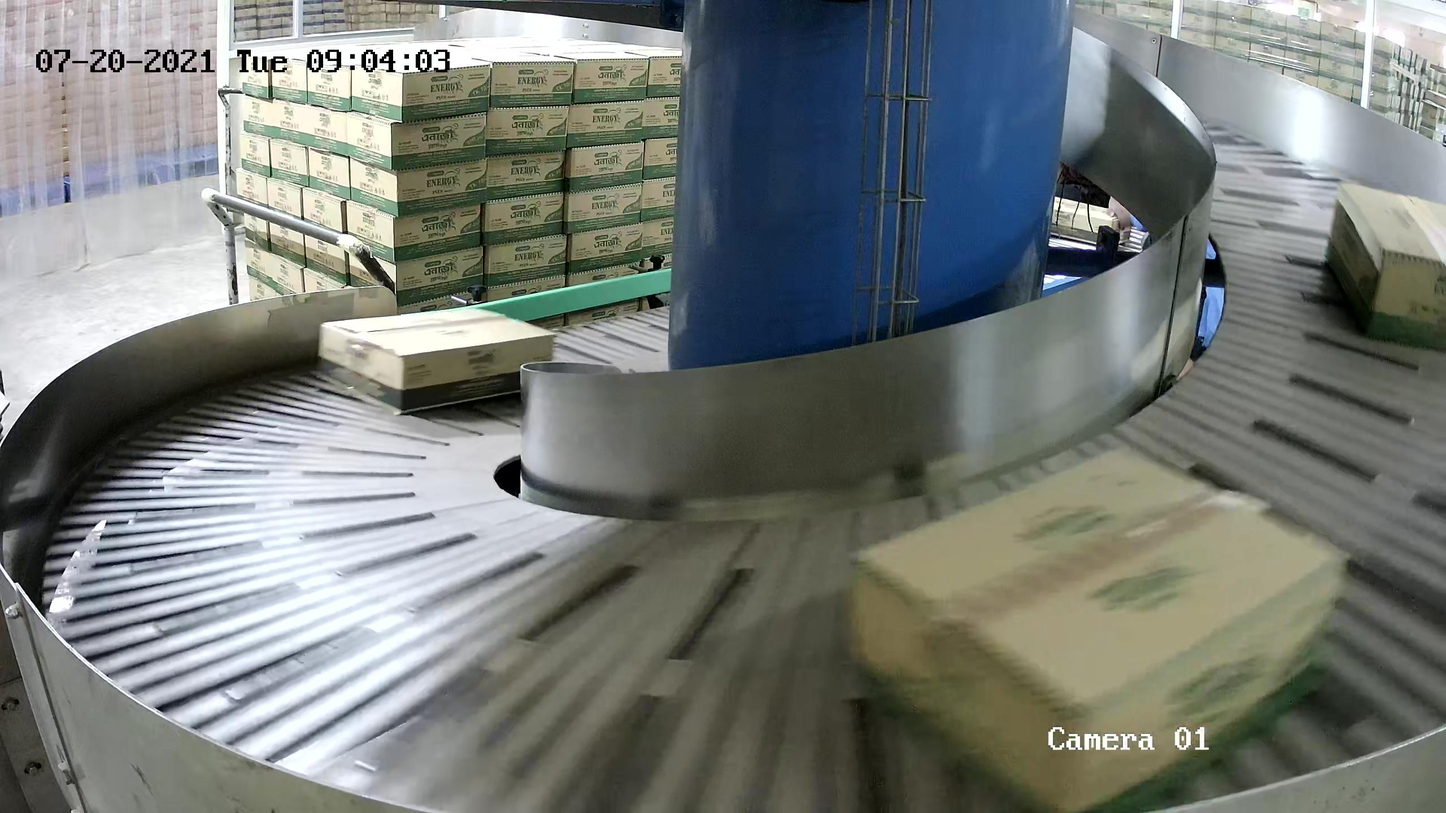Box: (845, 444, 1351, 813), (314, 306, 555, 417), (1324, 182, 1446, 355)
